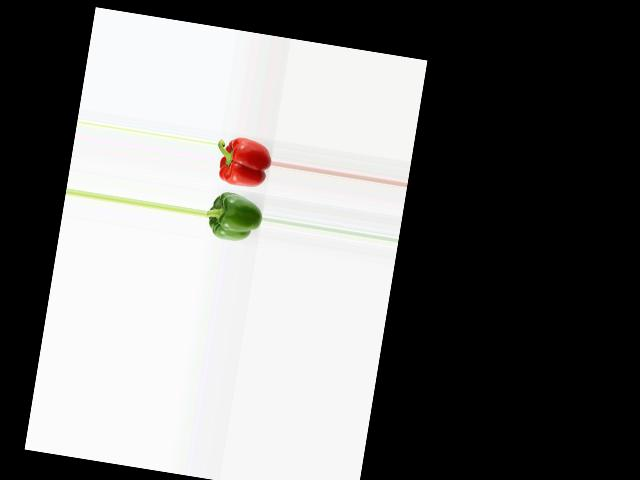bell_pepper: (204, 187, 263, 246)
